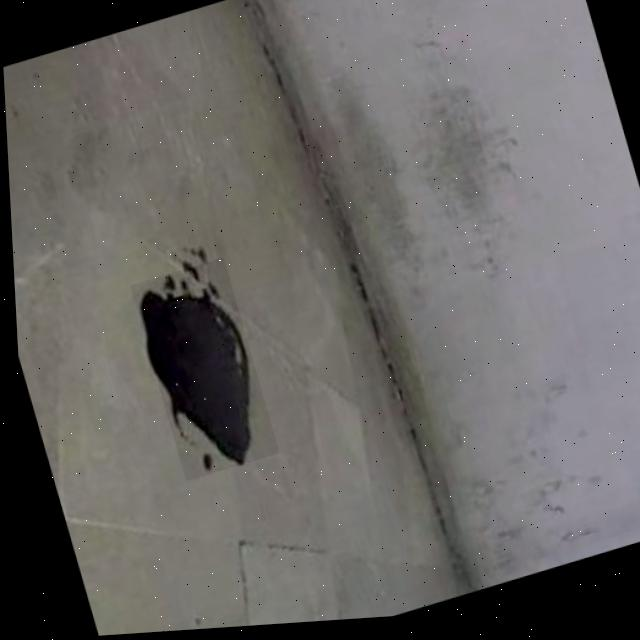spillage: (139, 275, 250, 464)
